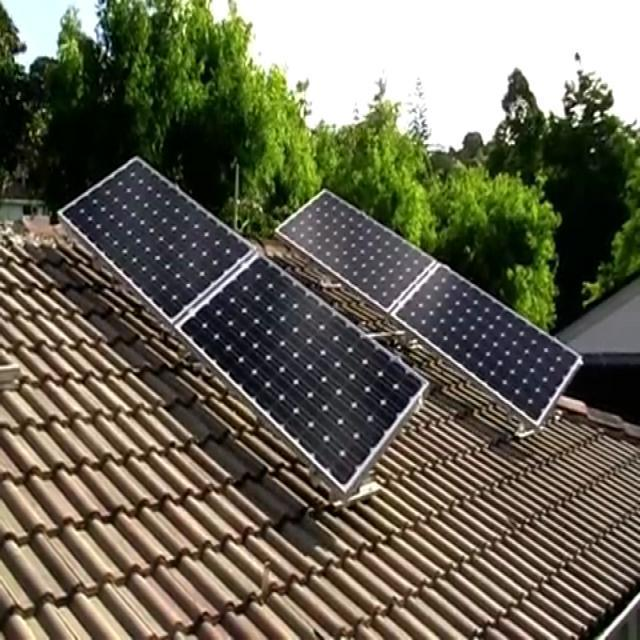Normal Solar Panel: (60, 157, 428, 496), (278, 191, 583, 428)
